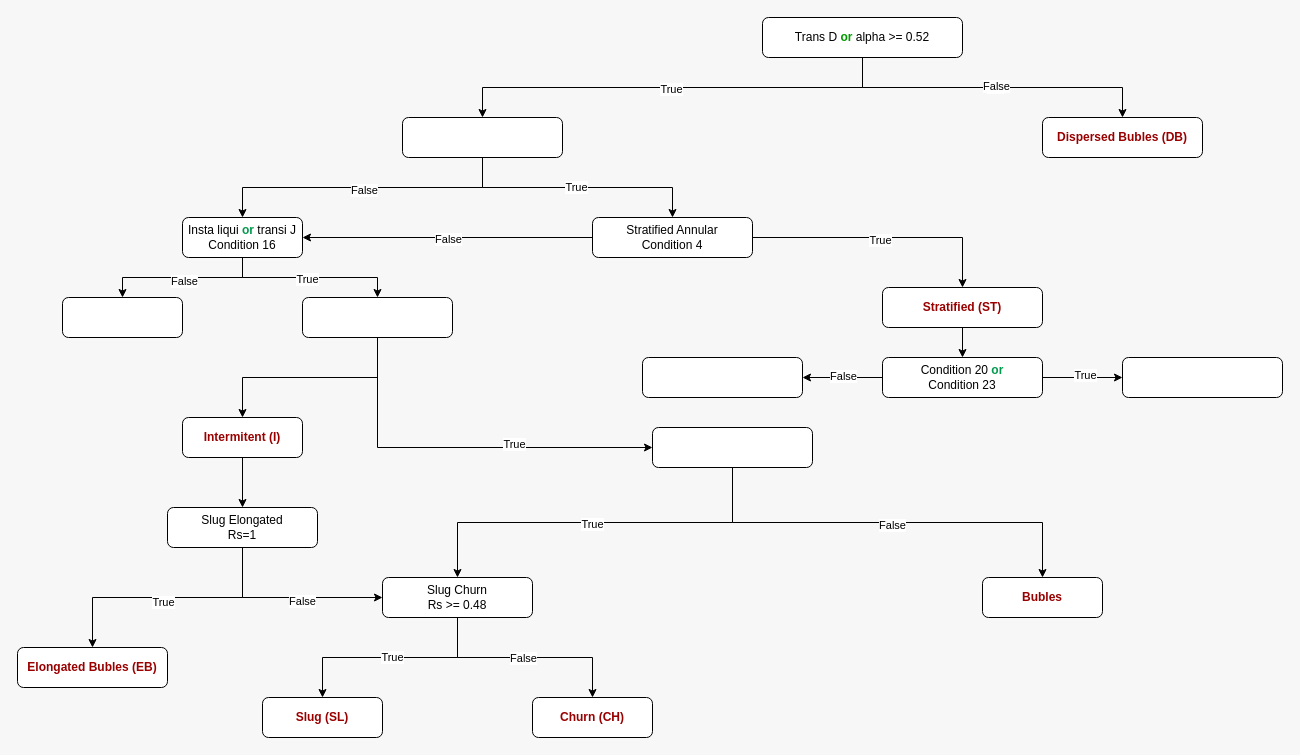
Some shapes in this 1300 by 755 pixel diagram are drawn without their labels. The shapes that lost their labels are listed below. From the top down, each one's box as (x1, y1, x2, y2) in pixels, then its label:
(402, 116, 562, 158): Kelvin Helm Condition 9
(62, 296, 182, 338): Annular (AN)
(302, 296, 452, 338): Check D >= Dcri and |b| >= Bcrit
(642, 356, 802, 398): Smoth Stratified (SS)
(1122, 356, 1282, 398): Wavy Stratified (SW)
(652, 426, 812, 468): Alpha >= 0.25 Condition 4
